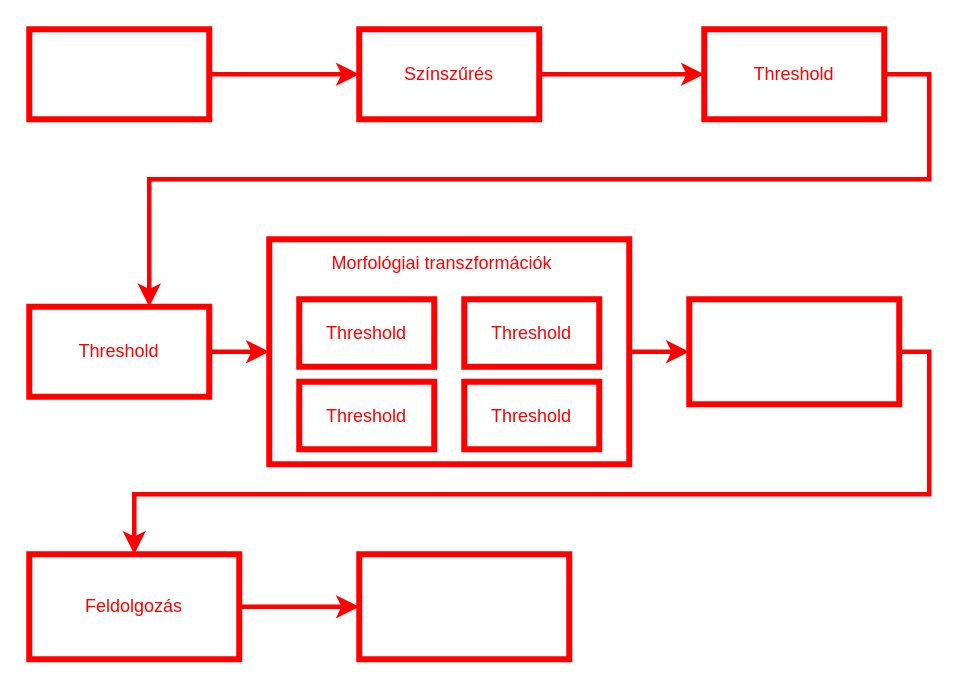
This 969x687 diagram has some shape labels left out. Each missing label, with the centre of its shape:
Blur: [794,351]
Kirajzols/Cselekvés: [464,606]
Kép beolvasása: [119,74]
